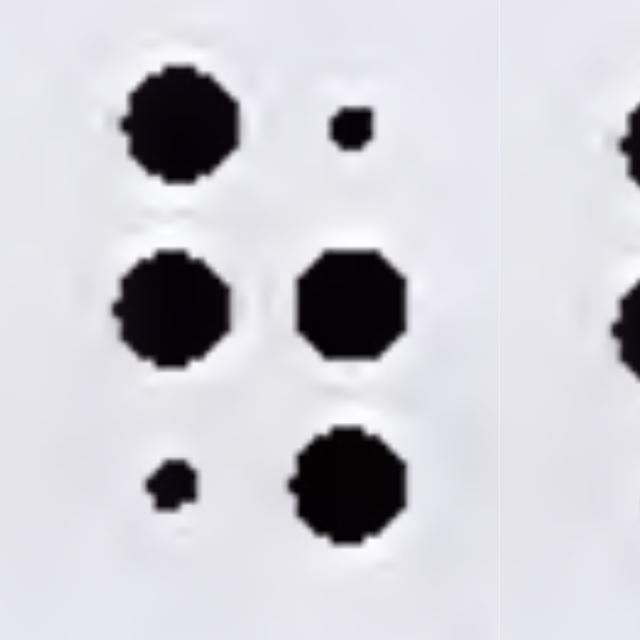one_cell_non_alphabet_tunay: (109, 62, 411, 546)
